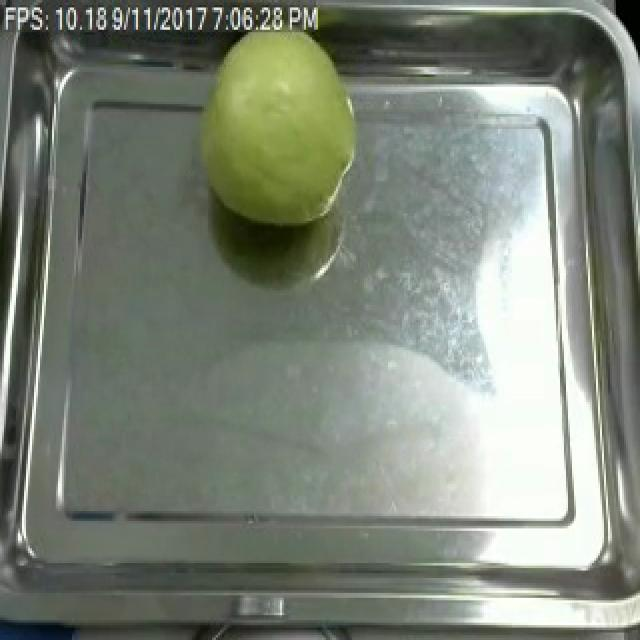Fruit: (188, 12, 368, 236)
